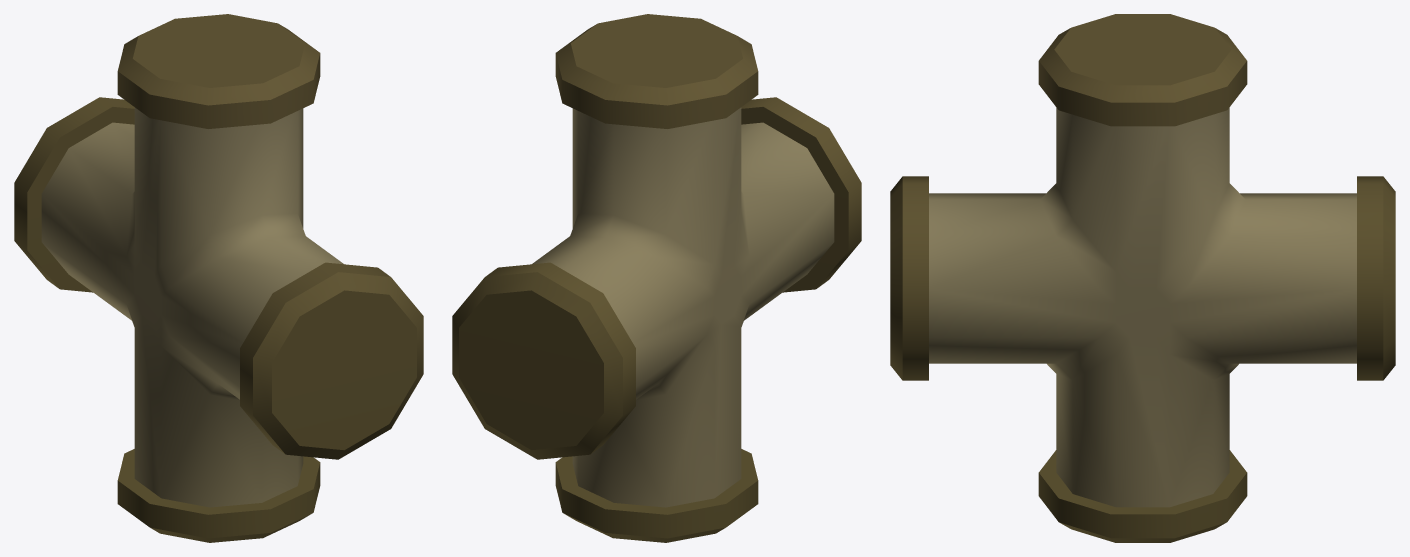
Rendered from SM_PipiS_03.fbx.
The picture shows the model from 3 angles, left to right: view 1: azimuth 30°, elevation 25°; view 2: azimuth 150°, elevation 25°; view 3: azimuth 270°, elevation 25°; orthographic projection.
Parts seen in each view (by area): view 1: SM_PipiS_03; view 2: SM_PipiS_03; view 3: SM_PipiS_03.
Boxes of the visible parts, x1=… form: SM_PipiS_03: x1=14, y1=14, x2=423, y2=542; SM_PipiS_03: x1=452, y1=14, x2=861, y2=542; SM_PipiS_03: x1=890, y1=14, x2=1395, y2=542.
Size of the model in its own units: 0.1236 by 0.315 by 0.315.
